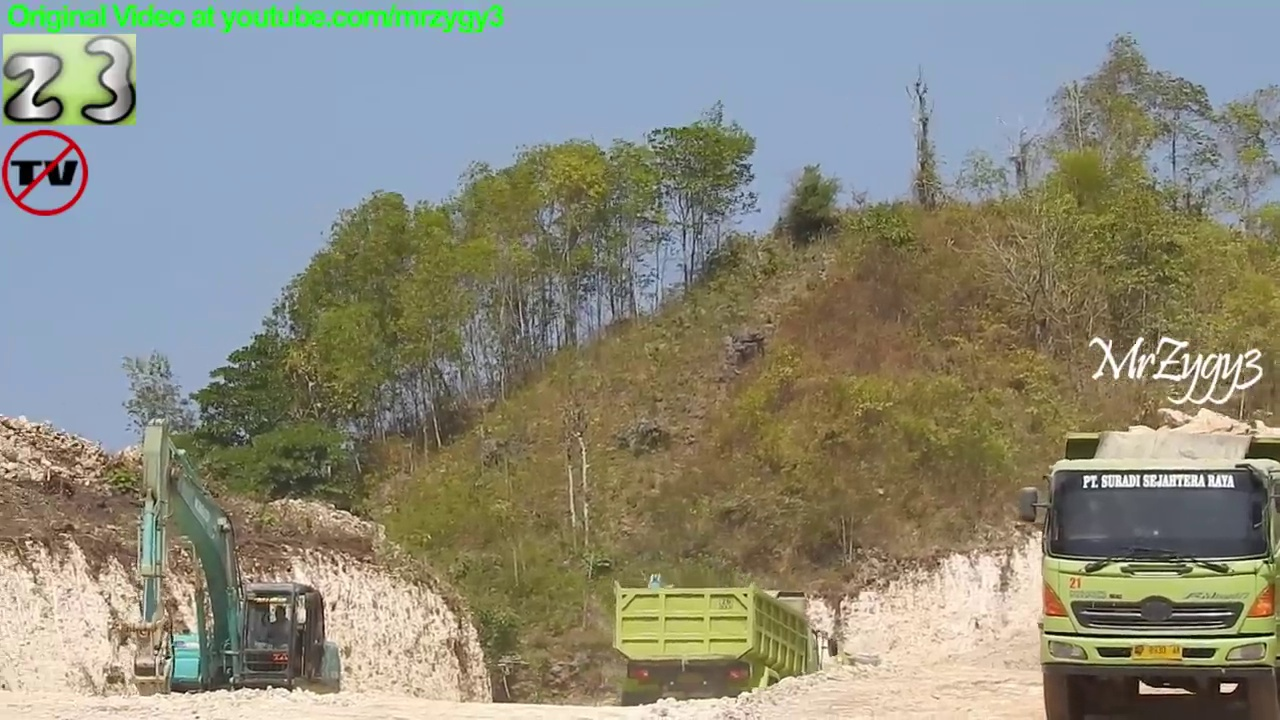excavator: (123, 413, 348, 720), (626, 568, 727, 716)
truck: (1013, 427, 1280, 720), (607, 576, 843, 717)
